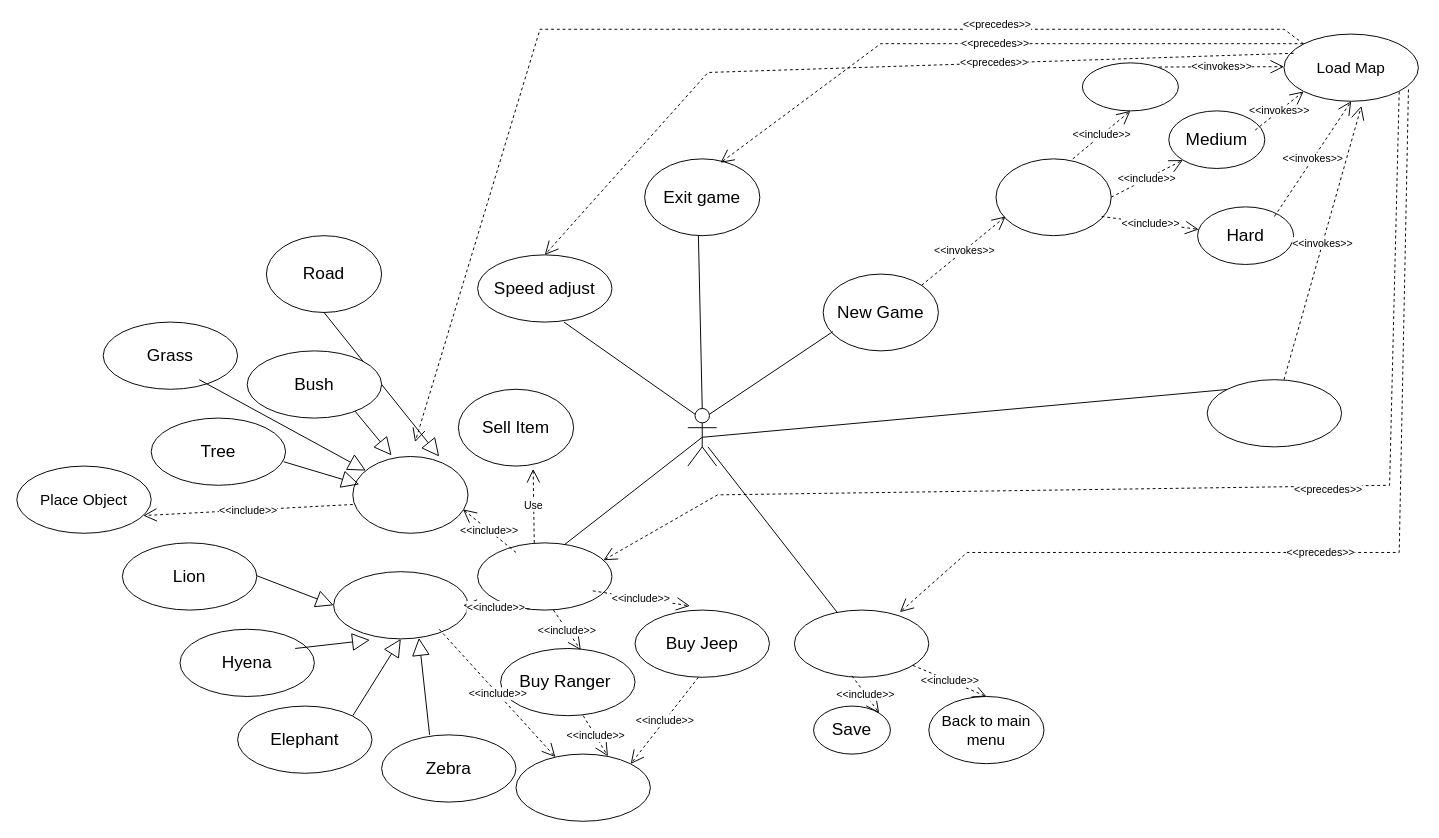
Some shapes in this 1439 by 838 pixel diagram are drawn without their labels. The box of each missing label's shape, as (x1, y1, x2, y2) in pixels:
Build and Plant: (352, 456, 468, 533)
Buy animal: (333, 571, 468, 639)
Difficulty Selection: (995, 158, 1111, 236)
Easy: (1081, 62, 1178, 111)
Load Game: (1206, 379, 1342, 447)
Open Shop: (477, 542, 612, 610)
Pause: (793, 609, 929, 677)
Place Being: (515, 753, 650, 821)
Player: (687, 408, 717, 466)
